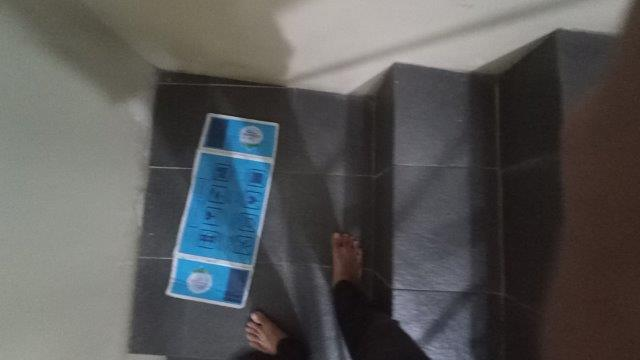kardus: (167, 114, 277, 307)
